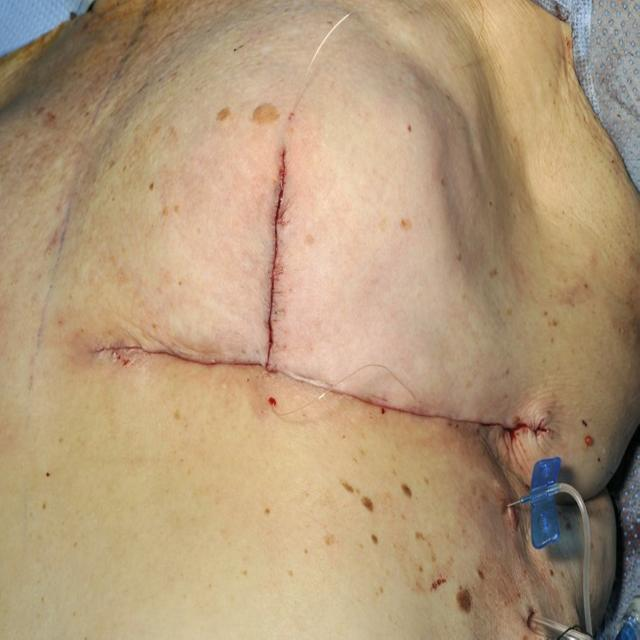wound: (89, 143, 551, 446)
